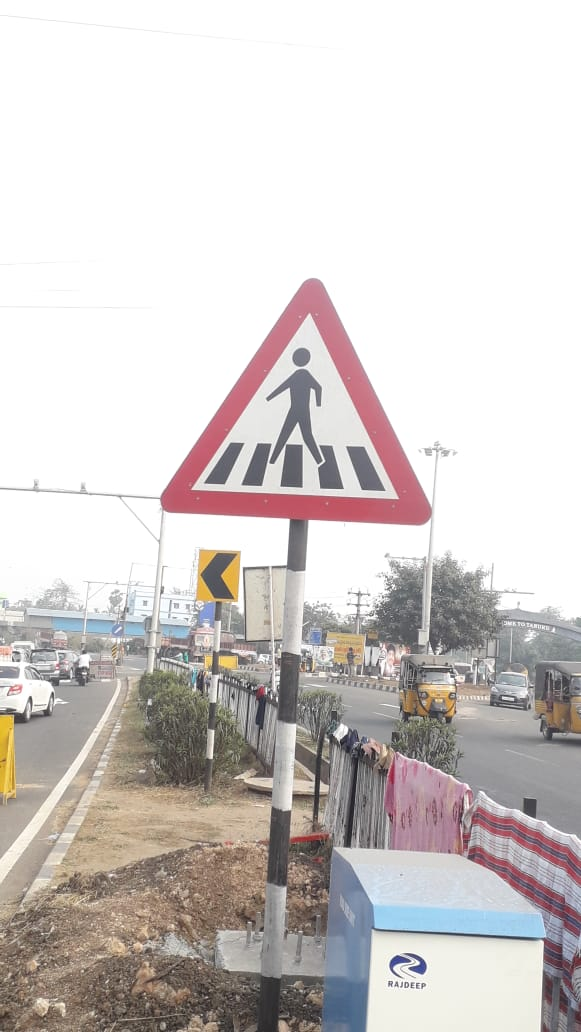pedestrian crossing: (156, 269, 442, 546)
